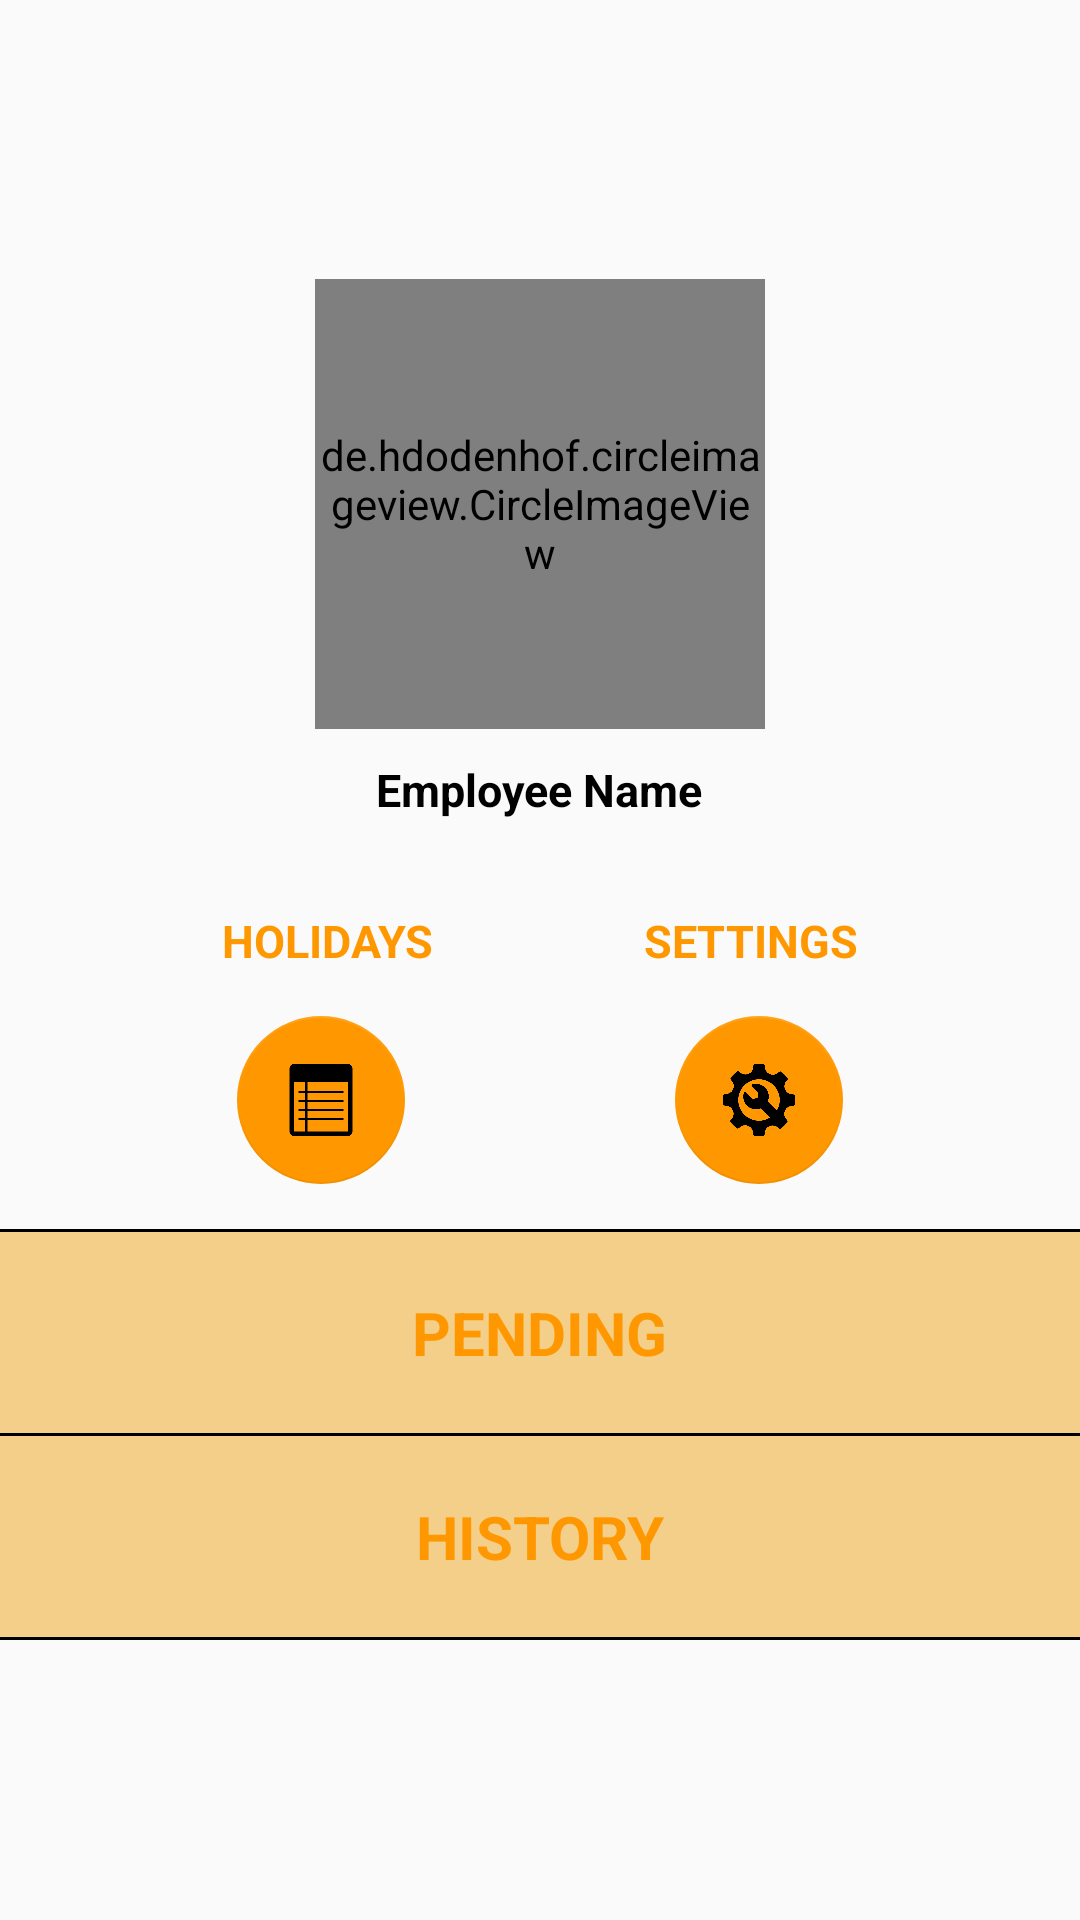

Locate icon controls on the screen. Image size 1080px x 1920px, boxes as (x1, y1, x2, y2).
iconfinder calendar: (237, 1016, 405, 1184)
